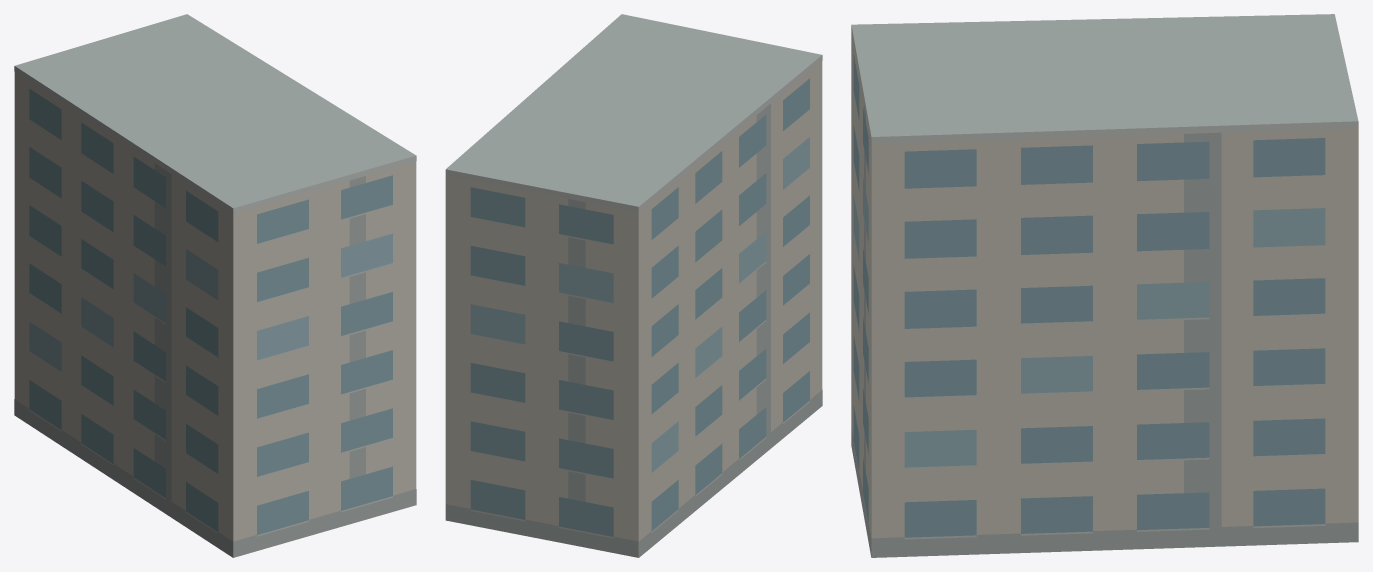
Rendered from survey-upis-32884534.glb.
The picture shows the model from 3 angles, left to right: view 1: azimuth 30°, elevation 25°; view 2: azimuth 150°, elevation 25°; view 3: azimuth 270°, elevation 25°; orthographic projection. The views are drawn at different scales.
Parts seen in each view (by area): view 1: survey-upis-32884534.tmp; view 2: survey-upis-32884534.tmp; view 3: survey-upis-32884534.tmp.
Boxes of the visible parts, x1,y1,x2,y2 form: survey-upis-32884534.tmp: [14, 14, 416, 557]; survey-upis-32884534.tmp: [445, 14, 822, 557]; survey-upis-32884534.tmp: [851, 14, 1358, 557].
Bounding box in the file's own units: 9.26 × 14.75 × 16.12.
